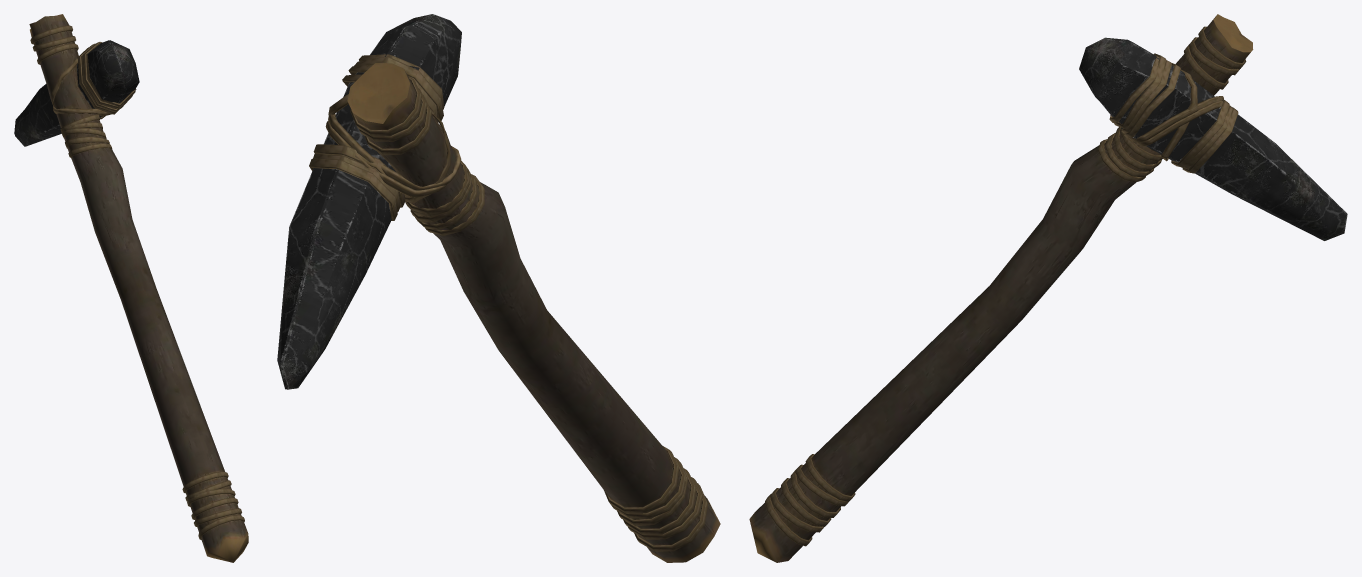
Rendered from tool-stonePickaxe.glb.
3 renders of one model, left to right at view 1: azimuth 30°, elevation 25°; view 2: azimuth 150°, elevation 25°; view 3: azimuth 270°, elevation 25°, orthographic. The views are drawn at different scales.
Parts seen in each view (by area): view 1: Pickaxe_msh; view 2: Pickaxe_msh; view 3: Pickaxe_msh.
Boxes of the visible parts, x1,y1,x2,y2 form: Pickaxe_msh: [14, 14, 248, 562]; Pickaxe_msh: [277, 14, 720, 562]; Pickaxe_msh: [749, 14, 1347, 562].
Size of the model in its own units: 0.9621 by 5.75 by 5.79.
Materials: 1 (1 with a texture image).
